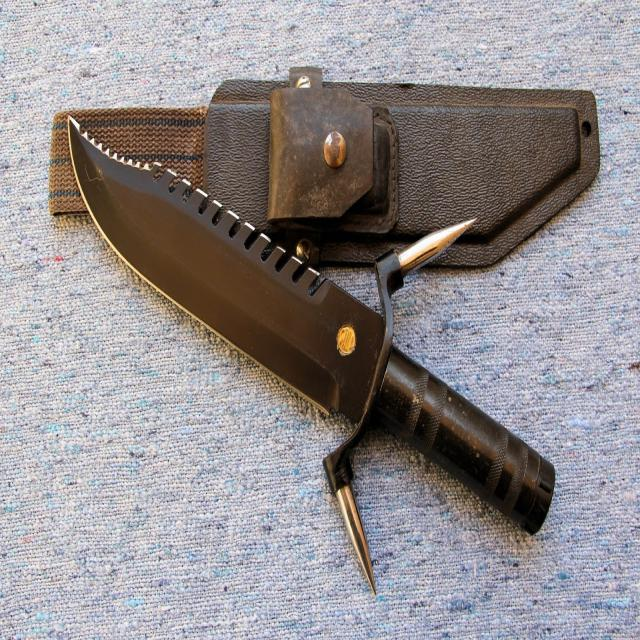knife: (63, 109, 555, 552)
